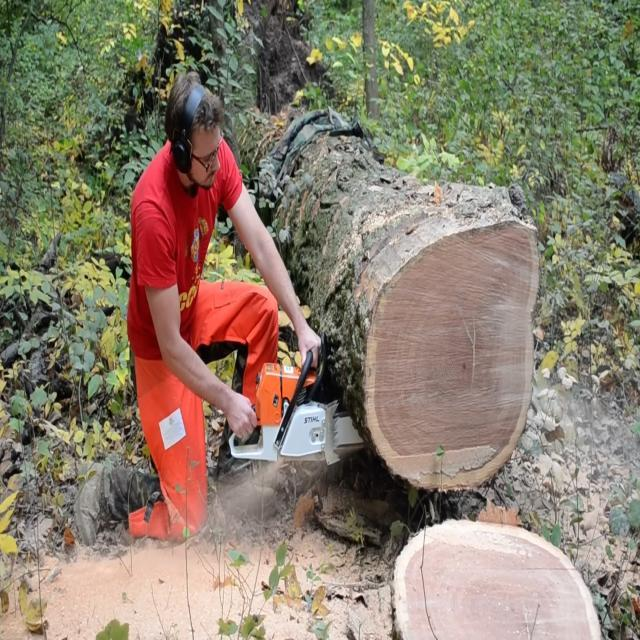Chainsaw: (214, 314, 378, 483)
